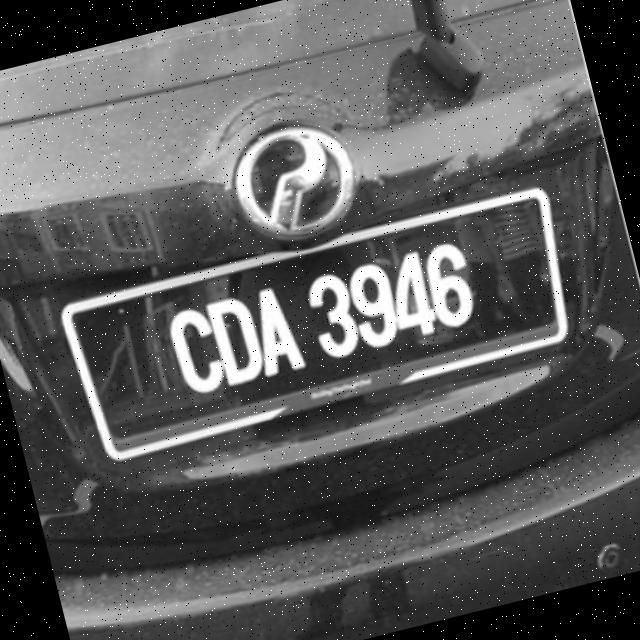License_Plate: (76, 202, 564, 446)
